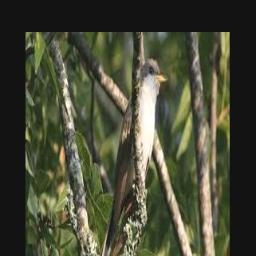Cuckoo: (100, 59, 168, 256)
